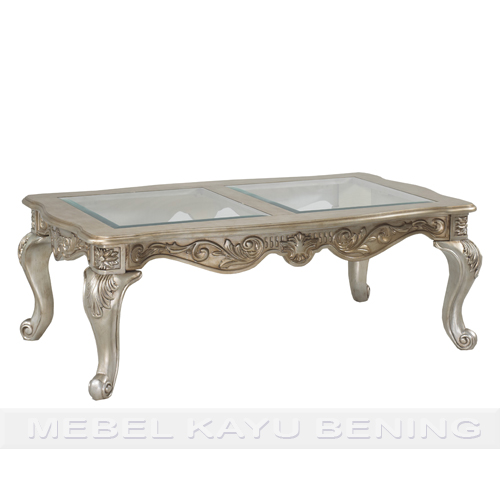Carving Table: (13, 179, 474, 417)
